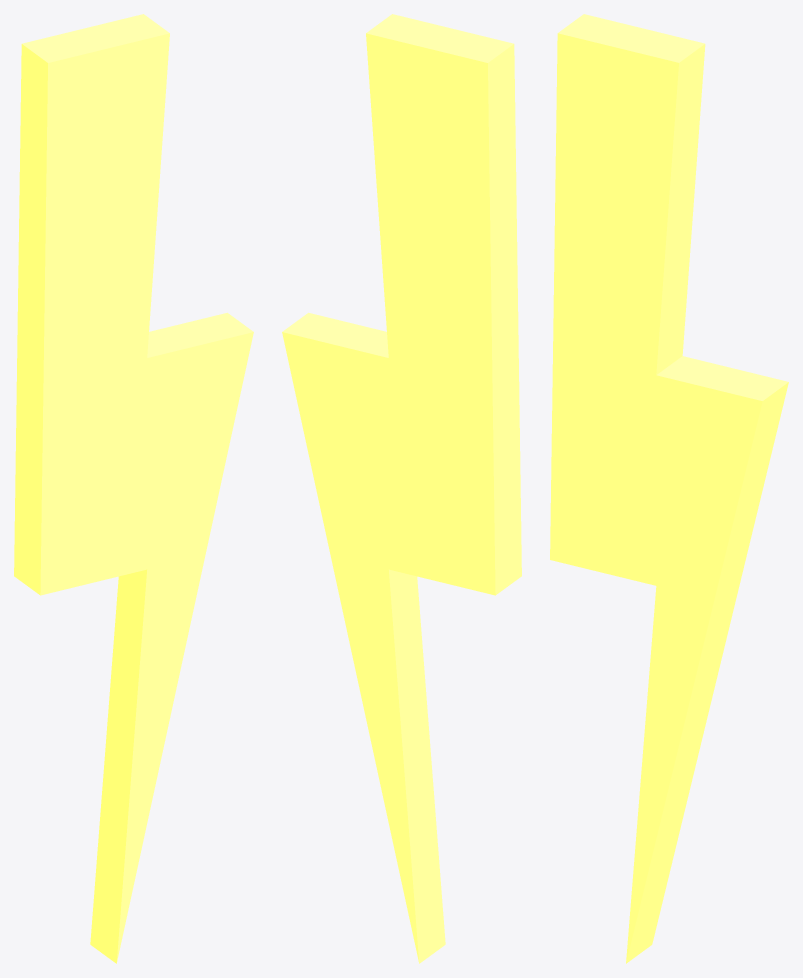
The model's file is lightning-bolt-old.gltf.
3 views of the same model, side by side, from view 1: azimuth 30°, elevation 25°; view 2: azimuth 150°, elevation 25°; view 3: azimuth 330°, elevation 25° (orthographic).
Visible parts, largest first — view 1: AnimeLightningBolt; view 2: AnimeLightningBolt; view 3: AnimeLightningBolt.
Boxes of the visible parts, x1=… form: AnimeLightningBolt: x1=14, y1=14, x2=253, y2=963; AnimeLightningBolt: x1=282, y1=14, x2=521, y2=963; AnimeLightningBolt: x1=550, y1=14, x2=788, y2=963.
Size of the model in its own units: 0.56 by 2.3 by 0.12.
